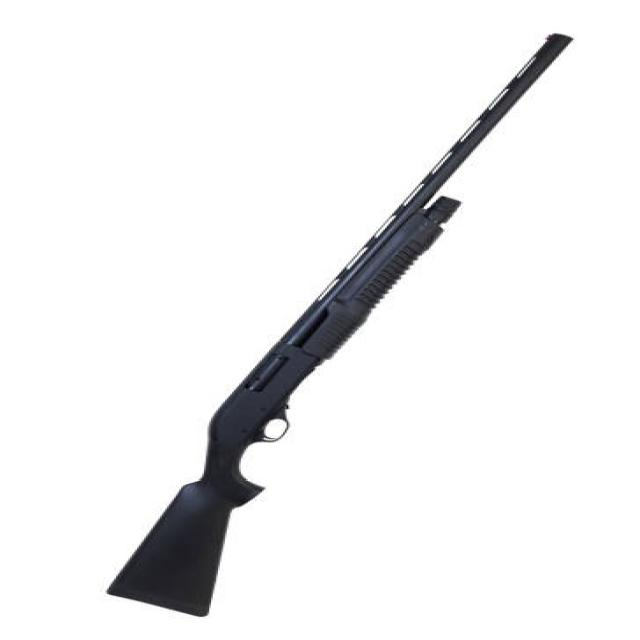rifle: (108, 27, 583, 627)
